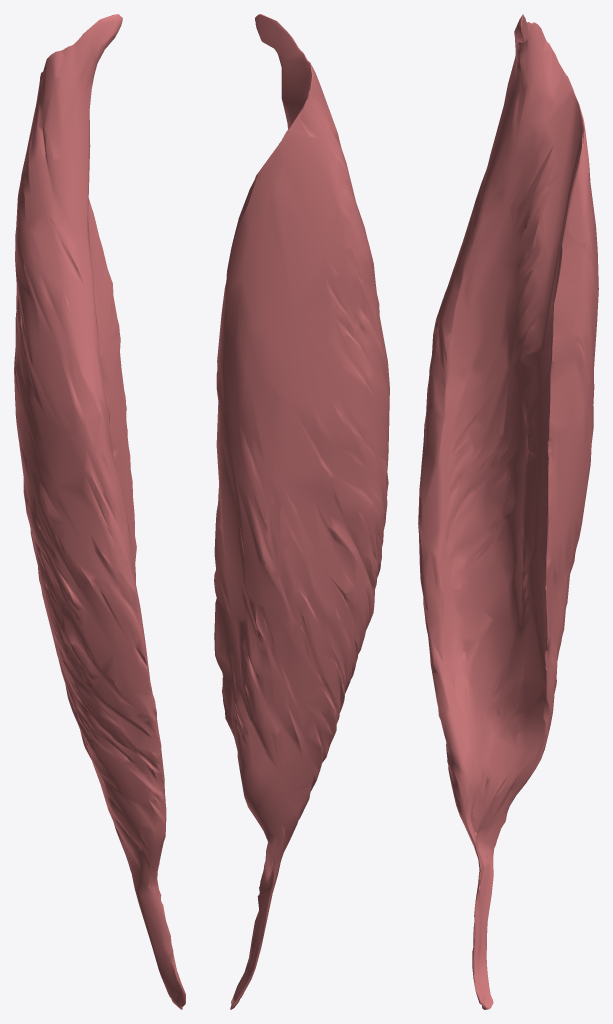
3 views of the same model, side by side, from view 1: azimuth 30°, elevation 25°; view 2: azimuth 150°, elevation 25°; view 3: azimuth 270°, elevation 25° (orthographic). The views are drawn at different scales.
Visible parts, largest first — view 1: FJ1442; view 2: FJ1442; view 3: FJ1442.
Boxes of the visible parts, <box> form: FJ1442: <box>14,14,185,1009</box>; FJ1442: <box>214,14,389,1009</box>; FJ1442: <box>418,14,598,1009</box>.
Size of the model in its own units: 0.0751 by 0.4677 by 0.0791.
